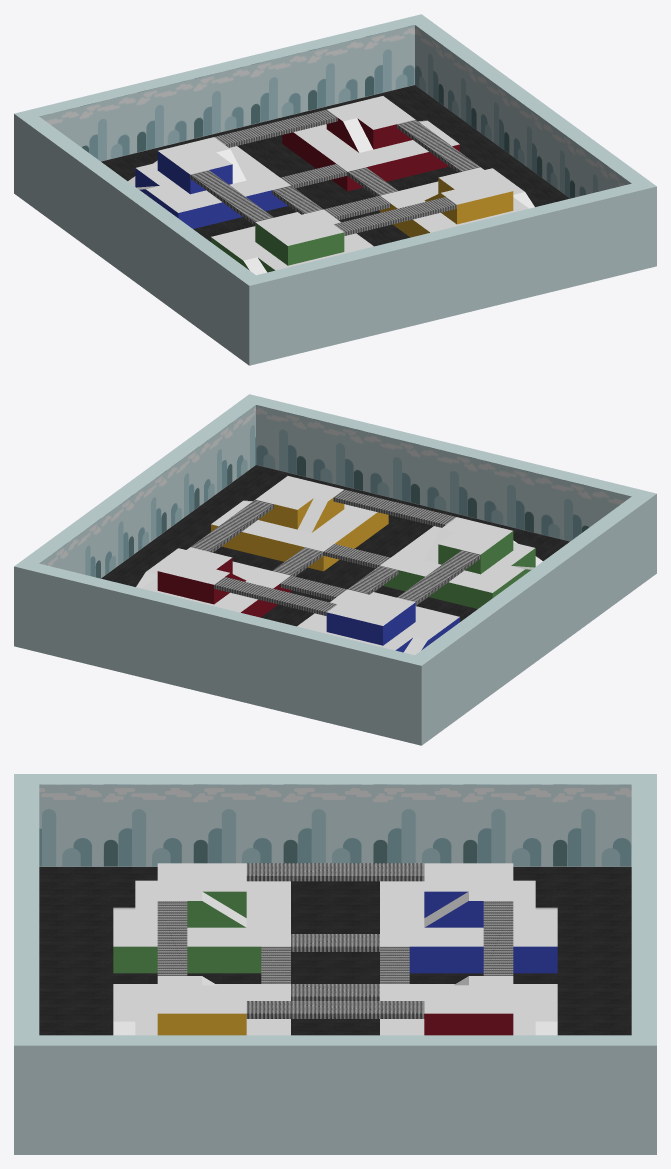
Rendered from BlockArena.fbx.
3 views of the same model, one above another, from view 1: azimuth 30°, elevation 25°; view 2: azimuth 150°, elevation 25°; view 3: azimuth 270°, elevation 25° (orthographic). The views are drawn at different scales.
Visible parts, largest first — view 1: Arena, CubeIsland.001, CubeIsland.002, HighBridge, CubeIsland.003, CubeIsland.004, LowBridges; view 2: Arena, CubeIsland.004, CubeIsland.003, HighBridge, CubeIsland.002, CubeIsland.001, LowBridges; view 3: Arena, CubeIsland.002, CubeIsland.003, HighBridge, CubeIsland.001, CubeIsland.004, LowBridges.
Part boxes in pixels (<box>): Arena: <box>14,14,656,365</box>; CubeIsland.001: <box>282,96,459,191</box>; CubeIsland.002: <box>128,137,290,228</box>; HighBridge: <box>190,109,480,235</box>; CubeIsland.003: <box>211,209,373,275</box>; CubeIsland.004: <box>380,167,534,237</box>; LowBridges: <box>272,164,397,220</box>; Arena: <box>14,394,656,745</box>; CubeIsland.004: <box>211,476,388,571</box>; CubeIsland.003: <box>380,517,542,608</box>; HighBridge: <box>190,489,480,615</box>; CubeIsland.002: <box>297,589,459,655</box>; CubeIsland.001: <box>136,547,290,617</box>; LowBridges: <box>273,544,398,600</box>; Arena: <box>14,774,656,1154</box>; CubeIsland.002: <box>380,863,557,973</box>; CubeIsland.003: <box>113,863,290,973</box>; HighBridge: <box>157,863,513,1018</box>; CubeIsland.001: <box>380,976,557,1035</box>; CubeIsland.004: <box>113,976,290,1035</box>; LowBridges: <box>261,934,409,1000</box>.
Size of what is drawn, in the model's own units: 108 by 108 by 20.31.
